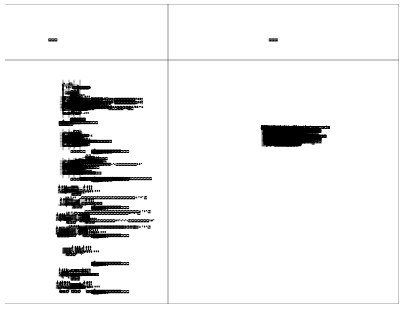corridor: (83, 145, 85, 152)
door: (67, 211, 69, 213), (67, 210, 69, 212), (70, 203, 71, 204), (73, 202, 74, 203), (74, 201, 75, 202), (73, 200, 74, 201), (68, 209, 69, 210), (62, 206, 63, 207), (65, 200, 66, 201), (59, 212, 60, 213), (61, 166, 62, 167), (73, 164, 74, 165), (74, 164, 75, 165), (74, 168, 75, 169), (65, 201, 66, 201), (59, 212, 60, 212), (68, 173, 69, 173), (69, 173, 69, 174)
room: (60, 170, 67, 176), (71, 104, 78, 109), (61, 74, 67, 79), (81, 85, 85, 92), (60, 200, 65, 205), (60, 163, 65, 168), (71, 171, 76, 176), (73, 104, 78, 109), (62, 74, 67, 79), (77, 74, 82, 79), (61, 142, 66, 147), (61, 171, 66, 176), (59, 221, 65, 225), (65, 134, 71, 138), (66, 200, 74, 203), (54, 15, 57, 22), (71, 168, 76, 171), (77, 76, 82, 79), (80, 88, 82, 95), (66, 163, 70, 166), (70, 174, 76, 176), (67, 90, 71, 93), (66, 134, 70, 137), (71, 207, 76, 209), (81, 85, 84, 88), (67, 141, 69, 145), (68, 222, 70, 225), (74, 165, 76, 168), (72, 165, 74, 168), (73, 203, 76, 205), (62, 87, 67, 88), (72, 196, 76, 197), (71, 203, 73, 205), (60, 196, 63, 197), (73, 196, 76, 197), (62, 205, 65, 206), (60, 167, 62, 168), (62, 167, 64, 168), (60, 205, 62, 206), (71, 205, 73, 206), (74, 205, 76, 206), (67, 203, 69, 204), (69, 203, 71, 204), (262, 180, 264, 181), (62, 19, 64, 20), (68, 15, 69, 16), (65, 15, 66, 16), (60, 16, 61, 17), (73, 19, 74, 20), (72, 19, 73, 20), (73, 17, 74, 18), (72, 17, 73, 18), (70, 15, 71, 16), (69, 17, 70, 18), (69, 19, 70, 20), (62, 75, 63, 76), (63, 87, 64, 88), (64, 87, 65, 88), (65, 87, 66, 88), (68, 211, 69, 212), (63, 196, 64, 197), (72, 196, 73, 197), (60, 207, 61, 208), (63, 170, 64, 171), (66, 53, 67, 54), (55, 19, 56, 20), (55, 21, 56, 22), (55, 18, 56, 19), (76, 18, 77, 19), (83, 21, 84, 22), (58, 31, 59, 32), (58, 34, 59, 35), (79, 91, 80, 92), (79, 89, 80, 90), (79, 88, 80, 89), (76, 78, 77, 79), (268, 169, 269, 170), (269, 172, 270, 173), (67, 15, 67, 16), (76, 19, 76, 20), (76, 17, 76, 18), (62, 75, 62, 76), (62, 73, 62, 74), (72, 202, 73, 202), (68, 174, 68, 176), (83, 75, 83, 76), (76, 21, 77, 21), (65, 200, 66, 200), (267, 179, 267, 179), (56, 19, 56, 20), (83, 18, 83, 19), (86, 86, 86, 87), (86, 91, 86, 91), (84, 77, 84, 78), (84, 75, 84, 75), (273, 172, 273, 173), (268, 168, 268, 169), (268, 167, 268, 167), (268, 165, 268, 166), (267, 168, 267, 168), (268, 163, 268, 164)
staircase: (61, 142, 66, 147), (75, 115, 78, 116), (60, 102, 62, 103), (85, 147, 86, 149), (81, 75, 82, 77), (85, 150, 86, 151), (79, 77, 80, 78)
wall: (67, 147, 83, 152), (67, 141, 83, 145), (59, 15, 81, 16), (56, 28, 77, 29), (77, 85, 87, 86), (82, 85, 85, 88), (60, 16, 64, 17), (60, 196, 64, 197), (72, 196, 76, 197), (66, 163, 67, 166), (54, 15, 57, 16), (60, 16, 61, 17), (68, 207, 69, 208), (68, 211, 69, 212), (68, 170, 69, 171), (66, 143, 67, 144), (79, 76, 80, 77), (81, 75, 82, 76), (265, 177, 266, 178), (77, 18, 78, 19), (55, 73, 64, 73), (60, 17, 61, 17), (71, 210, 71, 211), (71, 210, 71, 210), (71, 207, 71, 208), (71, 207, 71, 207), (72, 202, 73, 202), (60, 196, 64, 196), (72, 196, 76, 196), (67, 166, 70, 166), (76, 72, 87, 72), (84, 77, 84, 78), (265, 179, 266, 179), (56, 20, 56, 20), (76, 19, 77, 19), (86, 88, 86, 88), (266, 172, 266, 172), (266, 171, 266, 171)
window: (60, 200, 76, 213), (60, 163, 76, 176), (60, 207, 67, 213), (67, 141, 69, 145), (83, 149, 85, 152), (67, 146, 69, 147), (77, 73, 78, 74), (77, 75, 78, 76), (79, 75, 80, 76), (78, 75, 79, 76), (80, 87, 80, 88), (80, 89, 80, 90), (77, 74, 78, 74), (77, 73, 77, 74), (77, 74, 77, 74), (77, 76, 78, 76), (77, 75, 77, 76), (77, 76, 77, 76), (79, 76, 80, 76), (78, 76, 79, 76), (76, 21, 77, 21)
